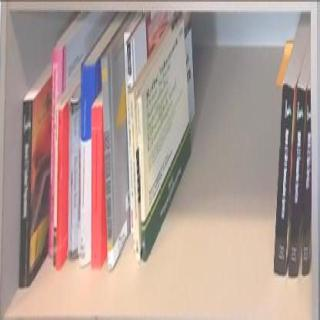book-spine: (273, 82, 295, 274), (47, 45, 65, 257), (78, 62, 95, 265), (288, 85, 306, 276), (101, 54, 114, 271), (19, 99, 32, 287), (90, 105, 103, 267), (128, 91, 140, 262), (302, 88, 312, 275), (54, 109, 63, 269), (138, 95, 146, 262), (72, 103, 80, 260), (52, 104, 59, 267), (68, 102, 73, 260)
